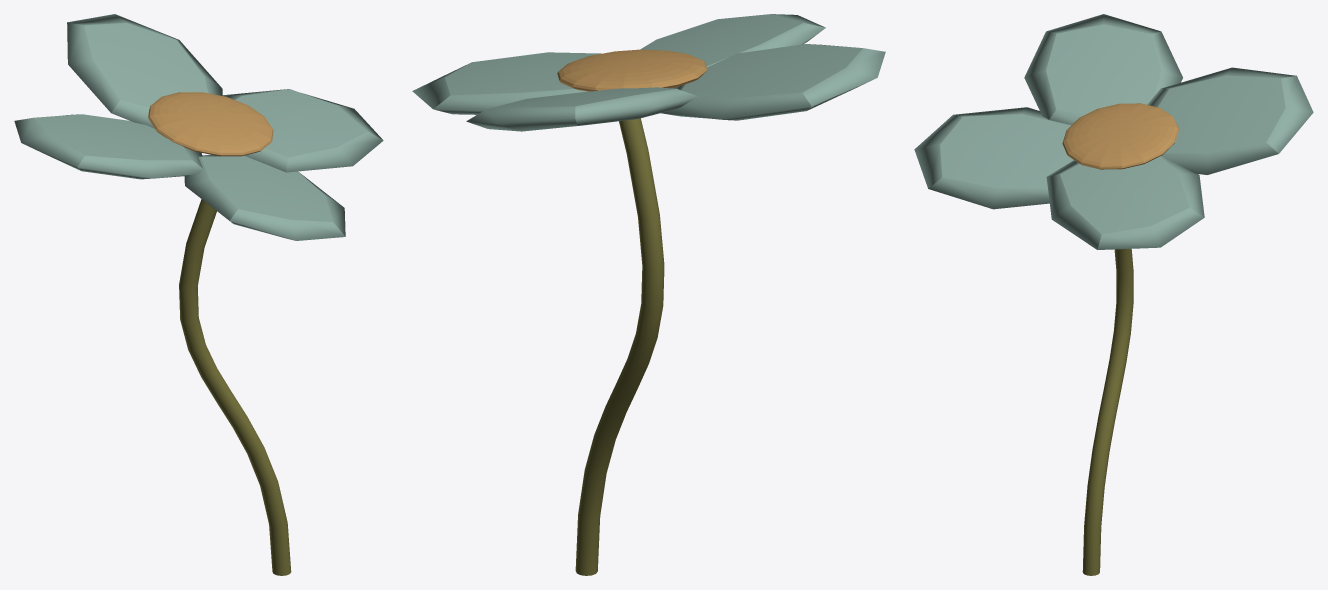
File: Flower2.fbx
The picture shows the model from 3 angles, left to right: view 1: azimuth 30°, elevation 25°; view 2: azimuth 150°, elevation 25°; view 3: azimuth 270°, elevation 25°; orthographic projection. The views are drawn at different scales.
Visible parts, largest first — view 1: Flower2; view 2: Flower2; view 3: Flower2.
Boxes of the visible parts, box(x1,y1,x2,y2) form: Flower2: box(14, 14, 383, 575); Flower2: box(412, 14, 885, 575); Flower2: box(914, 14, 1313, 575).
Bounding box in the file's own units: 178 × 231 × 185.
